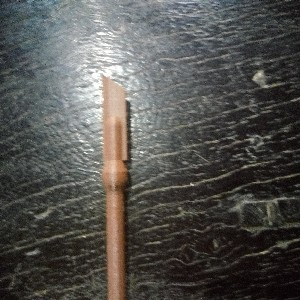cutter: (100, 74, 130, 300)
